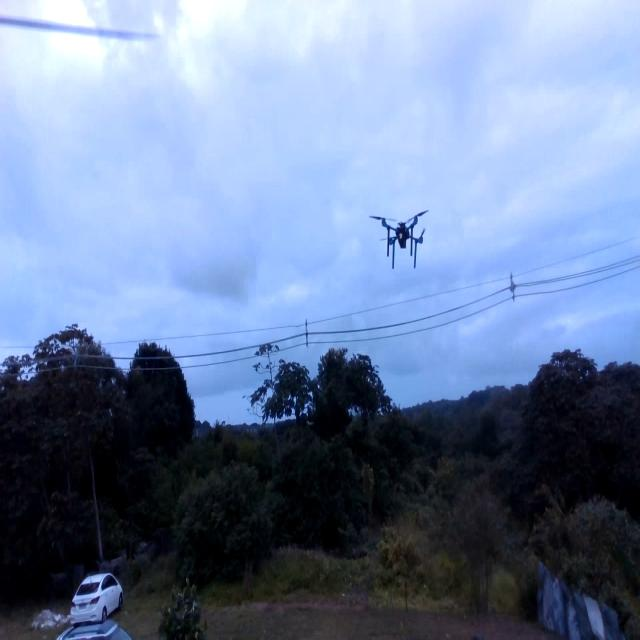-uav-: (367, 198, 439, 286)
